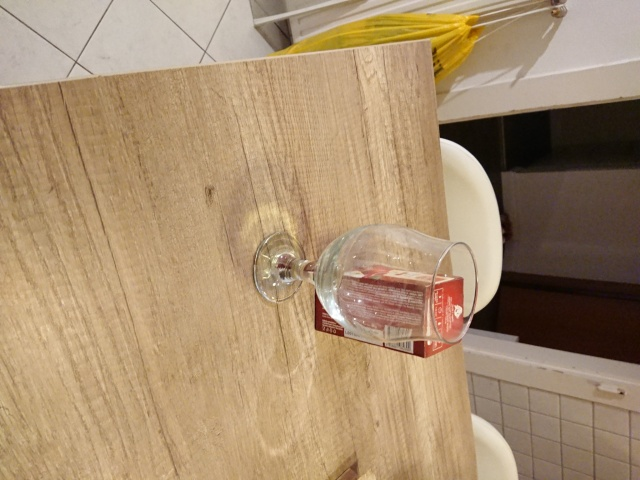Franck Apple Cinnamon Tea 60g: (311, 251, 468, 362)
